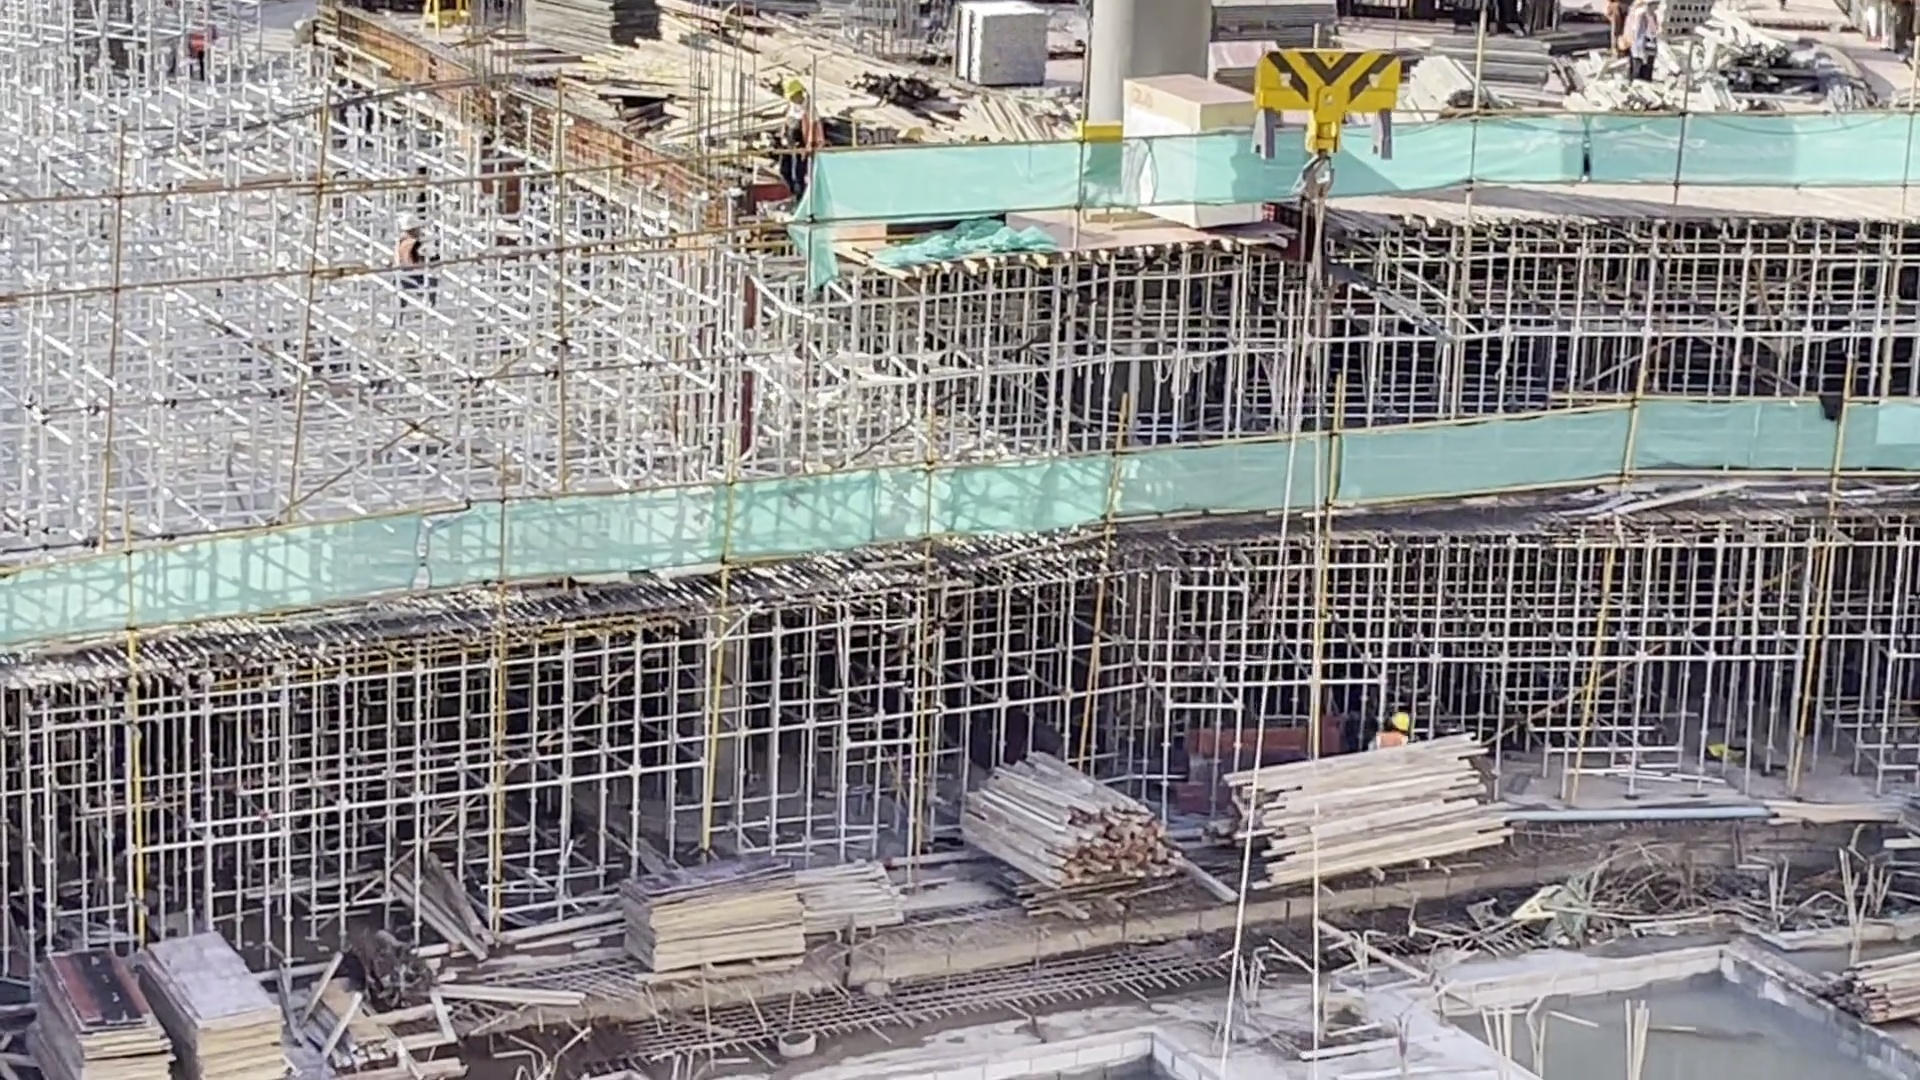board: (614, 857, 812, 976), (147, 928, 292, 1080), (25, 945, 173, 1080), (515, 1, 671, 60), (1118, 72, 1256, 128), (1210, 3, 1342, 47), (1208, 40, 1255, 92)
ebox: (417, 2, 469, 35)
helmet: (400, 210, 426, 232), (782, 80, 807, 98), (1391, 713, 1412, 731)
hook: (1256, 45, 1403, 194)
person: (777, 76, 827, 148), (1632, 1, 1663, 83), (1369, 712, 1416, 750)
scaffold: (941, 5, 1050, 80)
vest: (1375, 730, 1409, 748)
wood: (1225, 757, 1521, 890), (955, 749, 1186, 889), (1817, 938, 1920, 1026), (1408, 55, 1474, 107)
